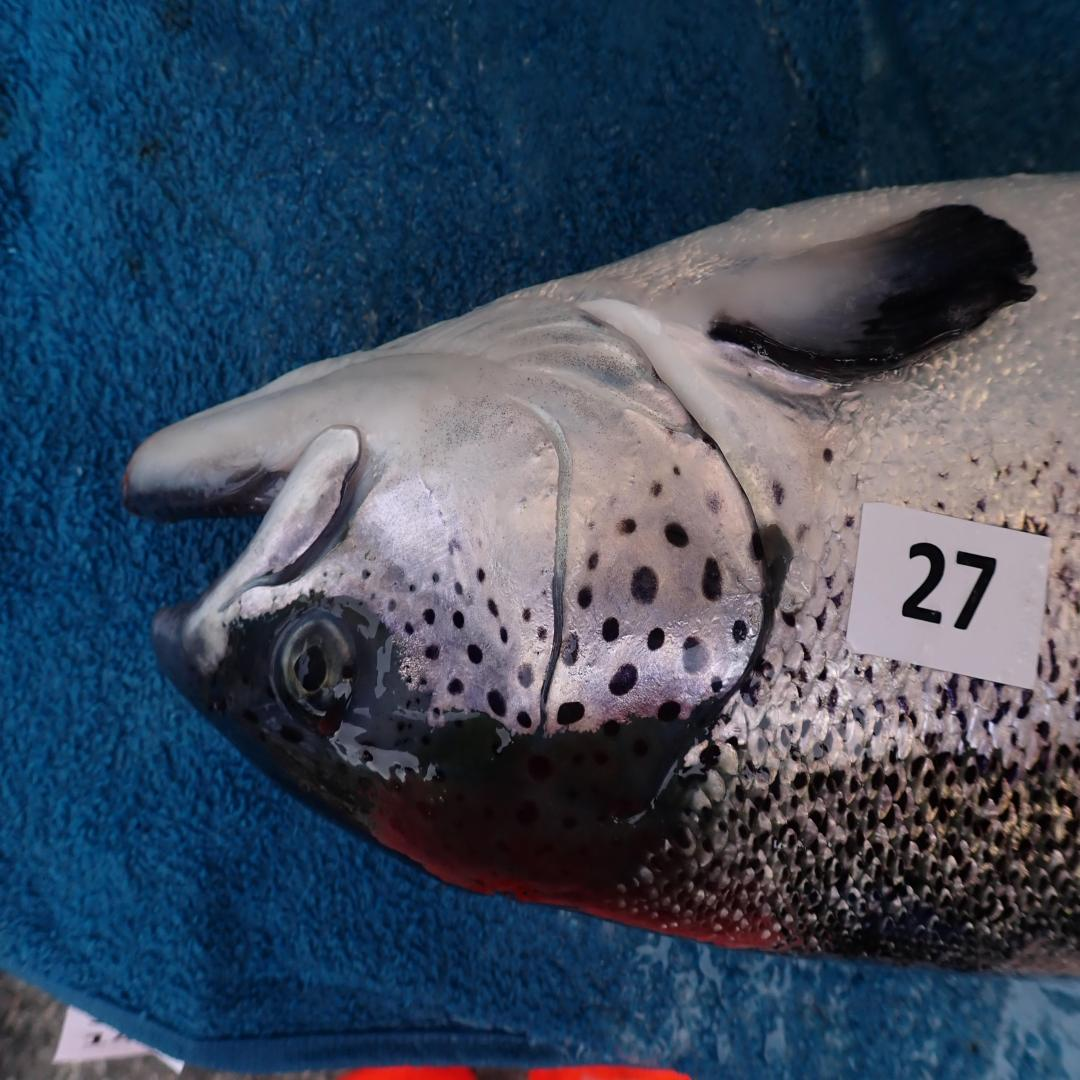spot: (681, 636, 709, 675), (631, 565, 658, 605), (702, 557, 721, 602), (610, 664, 637, 695), (557, 700, 584, 726), (664, 523, 688, 548), (487, 689, 506, 717), (705, 487, 724, 515), (658, 700, 681, 723), (561, 636, 578, 667), (601, 616, 620, 641), (732, 619, 749, 644), (517, 664, 534, 686), (648, 627, 664, 650), (752, 532, 764, 560), (468, 644, 483, 664), (578, 588, 593, 608), (447, 678, 464, 695), (620, 518, 637, 534), (424, 644, 439, 661), (517, 712, 532, 728), (422, 608, 435, 624), (650, 481, 662, 498), (589, 551, 599, 571), (449, 538, 462, 553), (487, 599, 498, 616), (711, 678, 724, 692), (454, 610, 464, 627), (430, 571, 441, 585), (454, 582, 464, 596), (403, 622, 413, 636), (500, 627, 508, 644), (477, 565, 485, 582), (523, 608, 532, 622), (388, 599, 397, 613), (589, 520, 597, 532), (538, 627, 546, 638), (673, 464, 681, 475), (540, 585, 548, 596), (362, 569, 370, 579), (405, 674, 413, 684), (421, 677, 428, 686), (409, 584, 416, 592), (370, 592, 376, 600)
